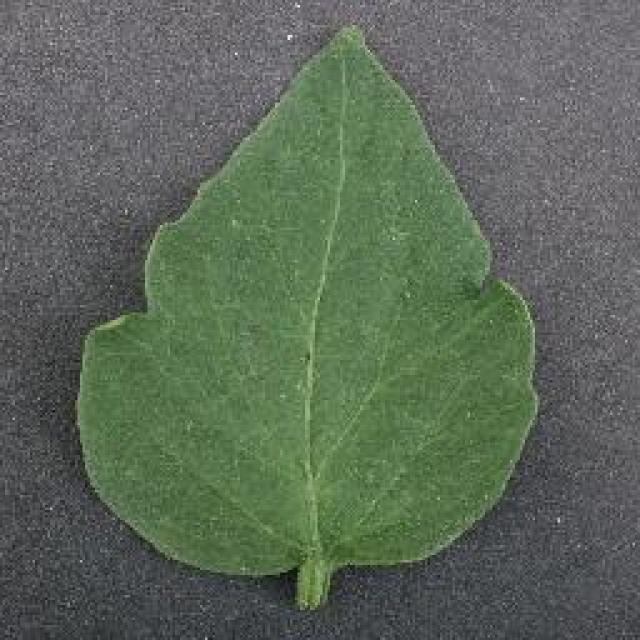Tomato_Healthy: (50, 24, 573, 569)
